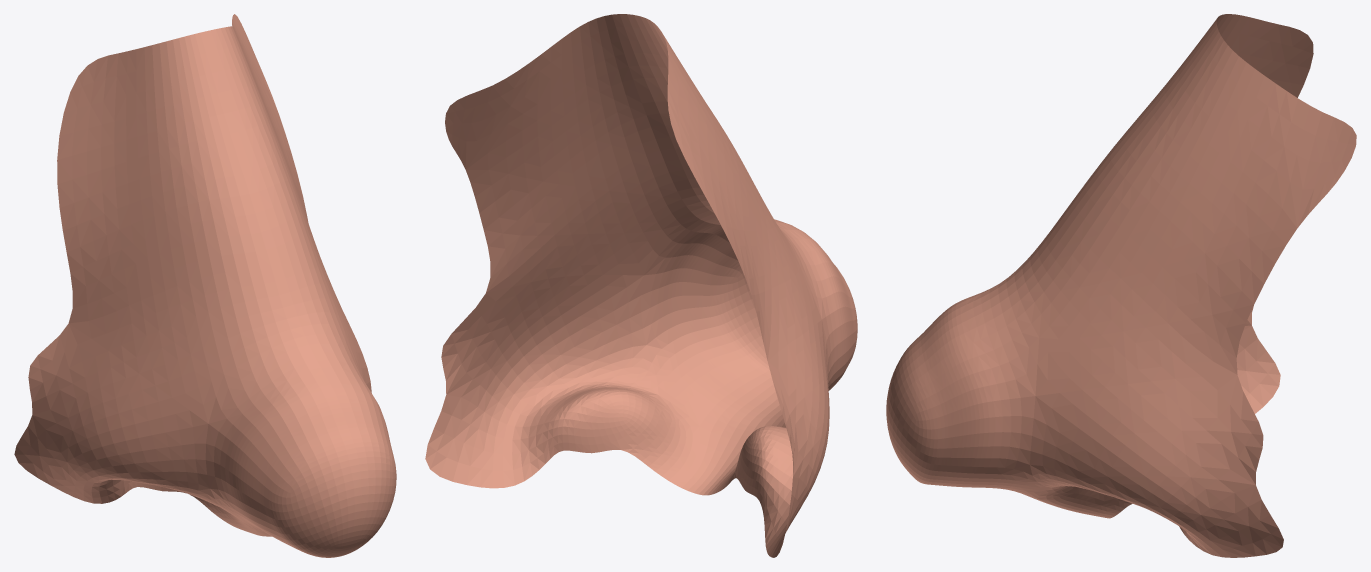
The model's file is nose0.obj.
3 renders of one model, left to right at view 1: azimuth 30°, elevation 25°; view 2: azimuth 150°, elevation 25°; view 3: azimuth 270°, elevation 25°, orthographic. The views are drawn at different scales.
Visible parts, largest first — view 1: nose_start; view 2: nose_start; view 3: nose_start.
Boxes of the visible parts, left/top/right/bottom form: nose_start: left=14, top=14, right=396, bottom=557; nose_start: left=425, top=14, right=857, bottom=557; nose_start: left=886, top=14, right=1356, bottom=557.
Size of the model in its own units: 0.0385 by 0.0537 by 0.0464.
